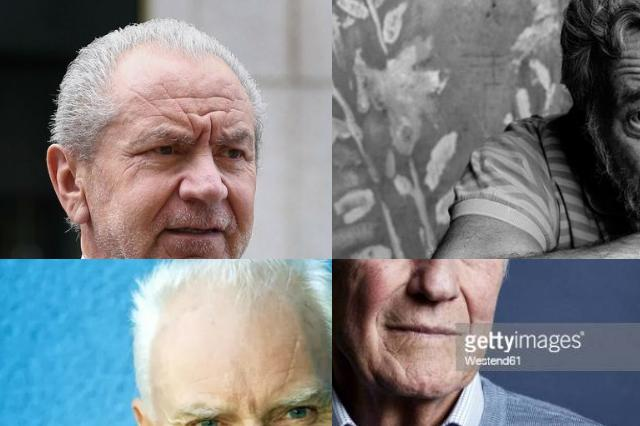chin: (376, 338, 402, 364), (183, 249, 213, 259), (159, 240, 173, 259)
crows_feet: (314, 400, 332, 426), (124, 144, 144, 166), (240, 150, 256, 172), (166, 417, 187, 426)
forehead: (281, 339, 299, 385), (620, 52, 640, 81), (145, 94, 167, 120), (176, 88, 207, 106), (194, 103, 224, 121), (212, 88, 236, 106)
frown_line: (195, 119, 215, 144)
gummy_smile: (158, 180, 178, 216), (383, 276, 411, 298), (457, 287, 475, 321), (224, 194, 238, 224)
sad_smile: (371, 310, 383, 329)
